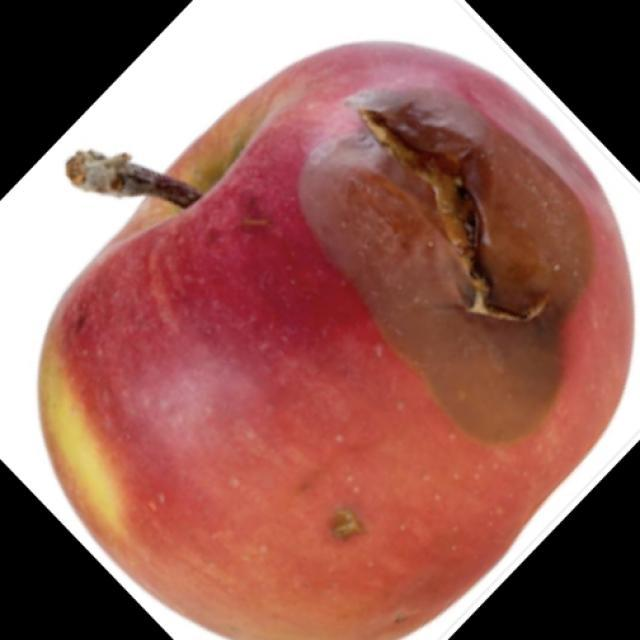Rotten: (79, 57, 594, 623)
